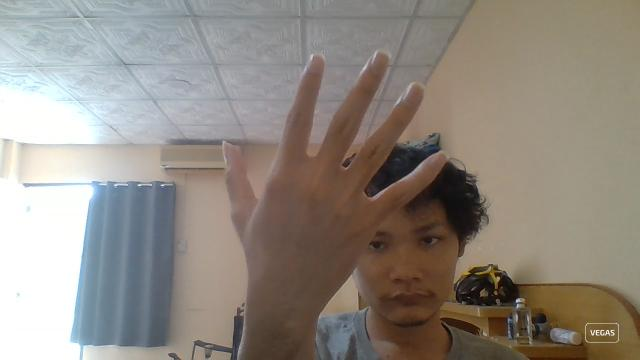backword: (223, 49, 447, 358)
